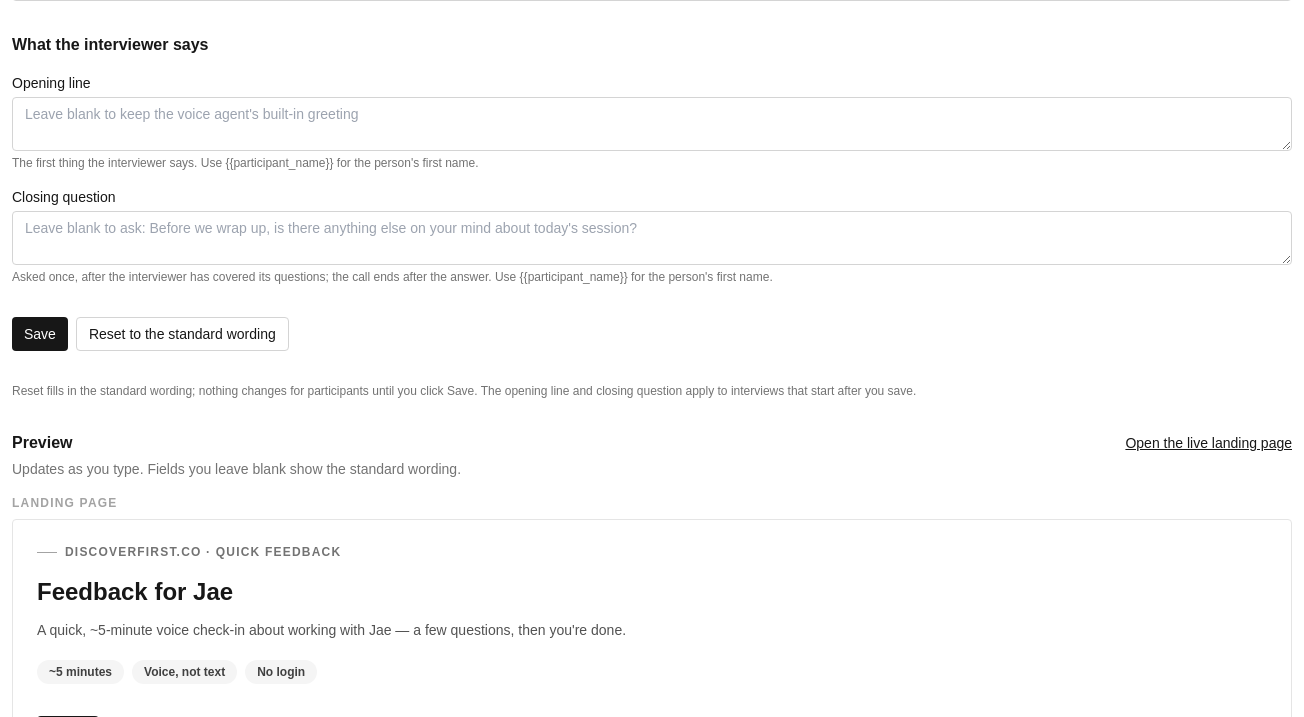
it: FeedbackPagesForm › shows the server's error and no success message when a save is rejected
(page scrolled)
Click the button "Save" at (40, 334), box [12,317,68,351]
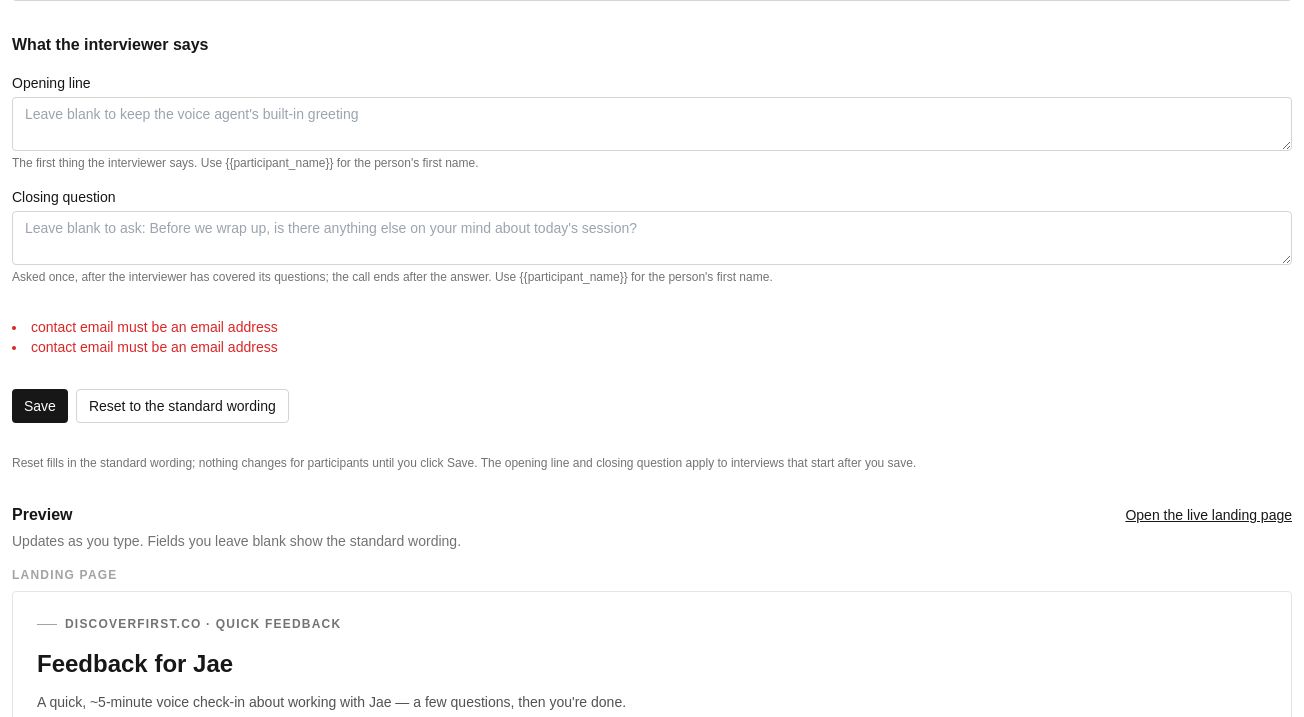
Expected: the message shows "contact email must be an email address", [31,319,278,335]
